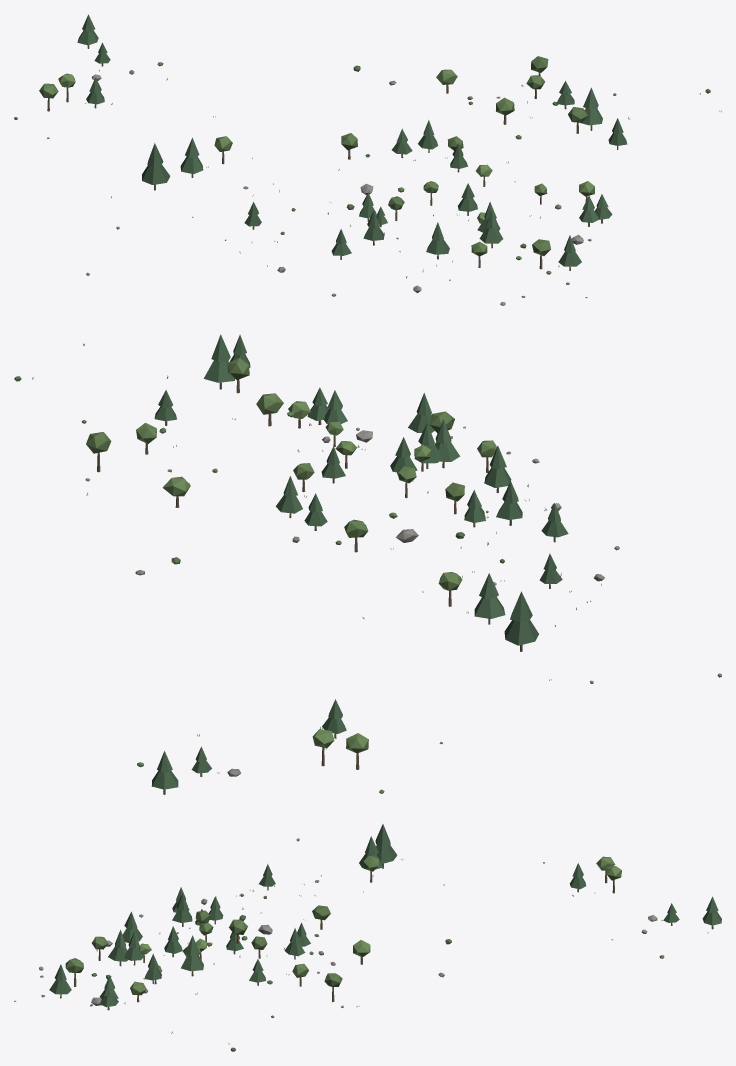
The model's file is arch_land_scatter_c21_22_lod1.glb.
3 views of the same model, one above another, from view 1: azimuth 30°, elevation 25°; view 2: azimuth 150°, elevation 25°; view 3: azimuth 270°, elevation 25° (orthographic). The views are drawn at different scales.
Visible parts, largest first — view 1: arch_land_scatter_c21_22_lod1; view 2: arch_land_scatter_c21_22_lod1; view 3: arch_land_scatter_c21_22_lod1.
Part boxes in pixels (x1,y1,x2,y2): arch_land_scatter_c21_22_lod1: [14, 14, 721, 305]; arch_land_scatter_c21_22_lod1: [14, 334, 721, 794]; arch_land_scatter_c21_22_lod1: [14, 824, 721, 1051].
Bounding box in the file's own units: 198 × 38.37 × 216.
